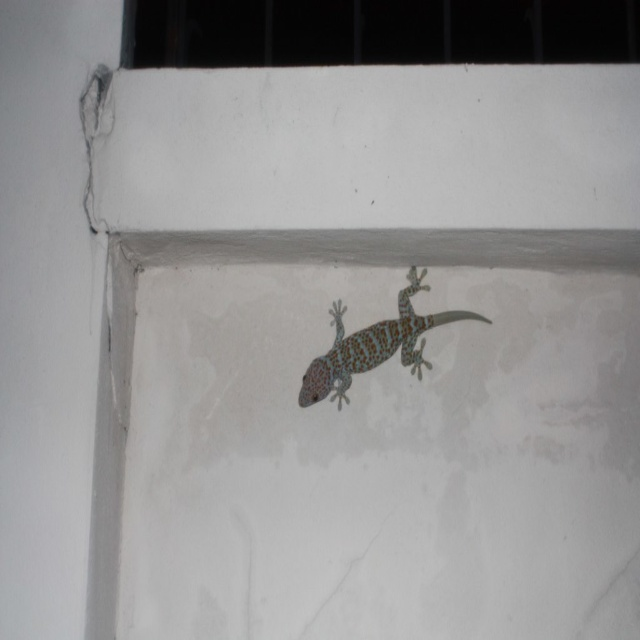Lizard: (294, 273, 484, 424)
